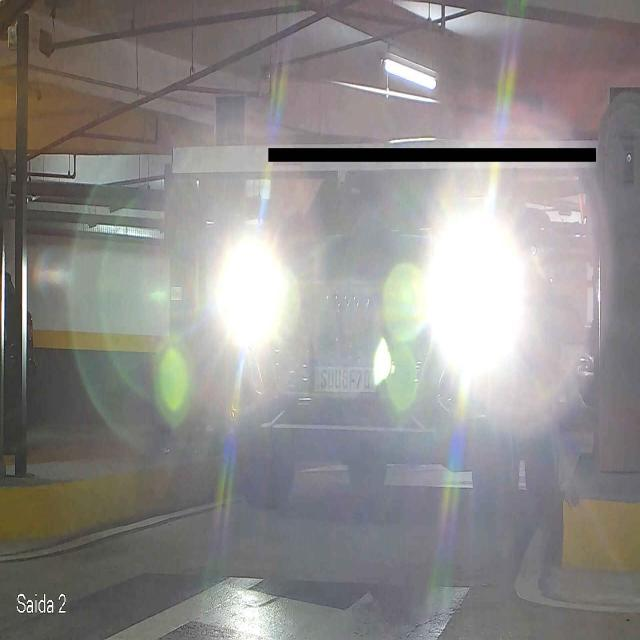mercosul_plate: (310, 358, 378, 395)
